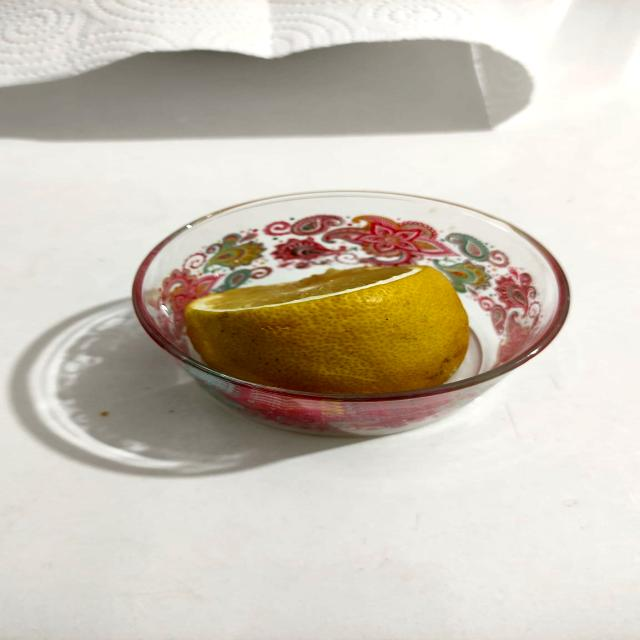lemon: (163, 242, 512, 418)
